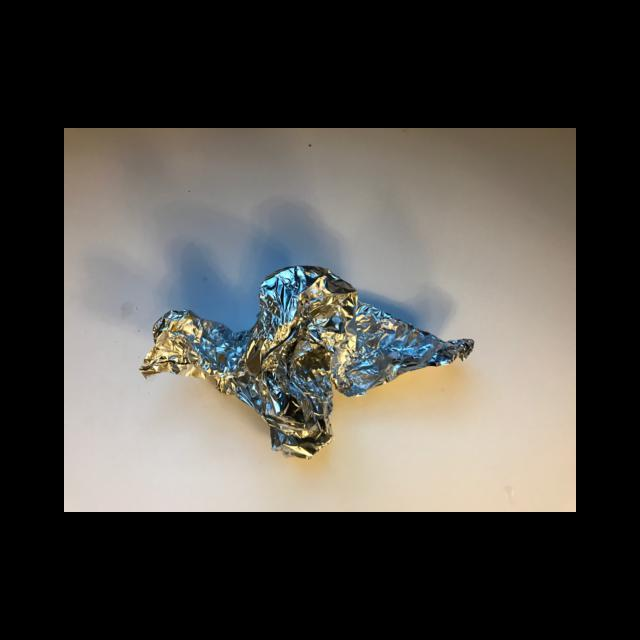metal: (140, 263, 472, 460)
